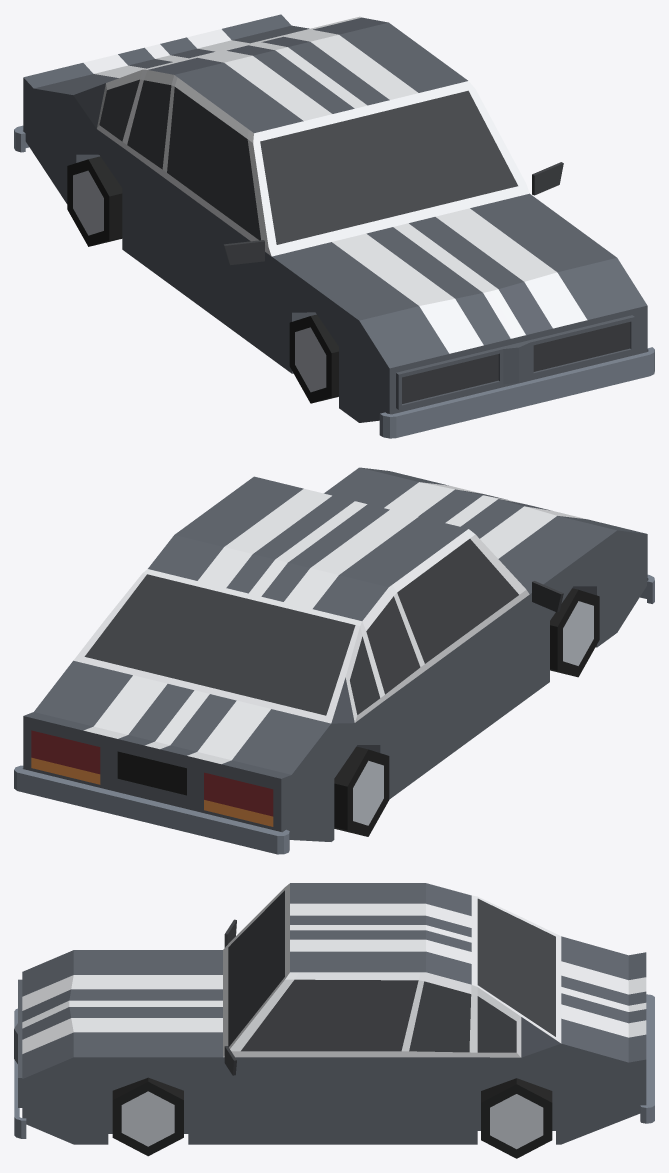
Rendered from Vehicles_Classic_Spor.fbx.
3 renders of one model, top to bottom at view 1: azimuth 30°, elevation 25°; view 2: azimuth 150°, elevation 25°; view 3: azimuth 270°, elevation 25°, orthographic. The views are drawn at different scales.
Parts seen in each view (by area): view 1: Vehicles_Classic_Spor; view 2: Vehicles_Classic_Spor; view 3: Vehicles_Classic_Spor.
Boxes of the visible parts, x1,y1,x2,y2 form: Vehicles_Classic_Spor: (14, 14, 654, 438); Vehicles_Classic_Spor: (14, 467, 654, 854); Vehicles_Classic_Spor: (14, 883, 654, 1158).
Size of the model in its own units: 255 by 146 by 490.
